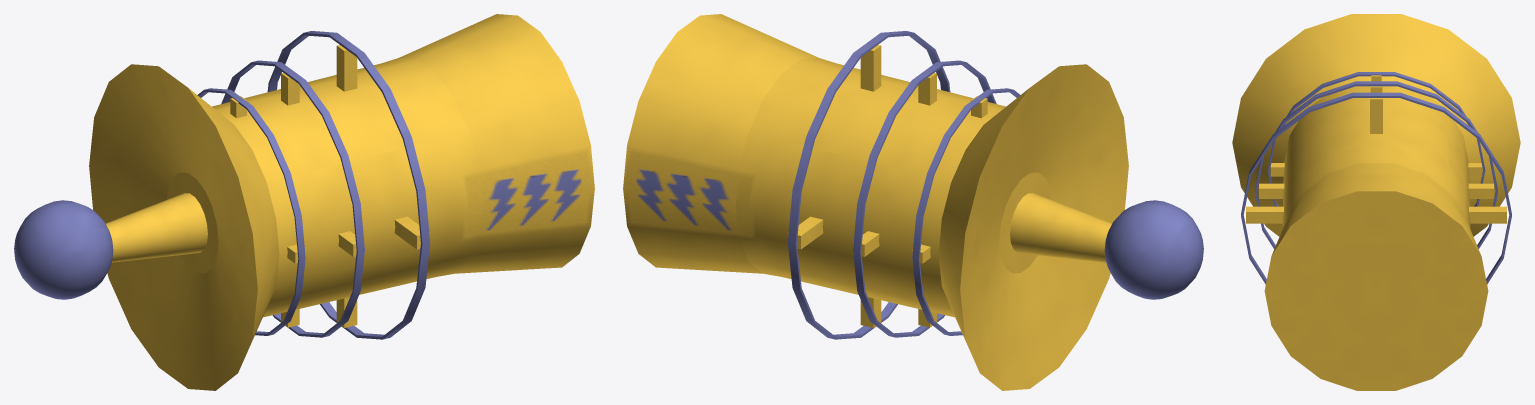
Rendered from plate_gun.fbx.
3 views of the same model, side by side, from view 1: azimuth 30°, elevation 25°; view 2: azimuth 150°, elevation 25°; view 3: azimuth 270°, elevation 25° (orthographic). The views are drawn at different scales.
Visible parts, largest first — view 1: laserGun; view 2: laserGun; view 3: laserGun.
Boxes of the visible parts, left/top/right/bottom form: laserGun: left=14, top=14, right=594, bottom=390; laserGun: left=623, top=14, right=1203, bottom=390; laserGun: left=1232, top=14, right=1520, bottom=390.
Size of the model in its own units: 71.39 by 40.4 by 41.02.
